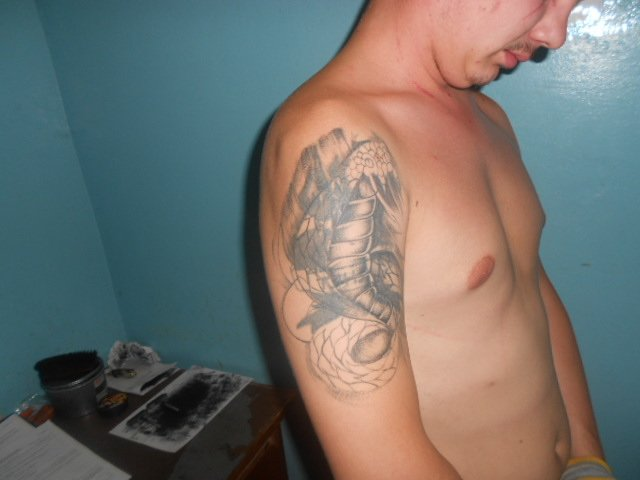tatu7_zmeya: (299, 136, 430, 414)
